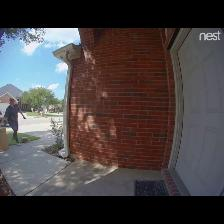person: (0, 99, 25, 145)
